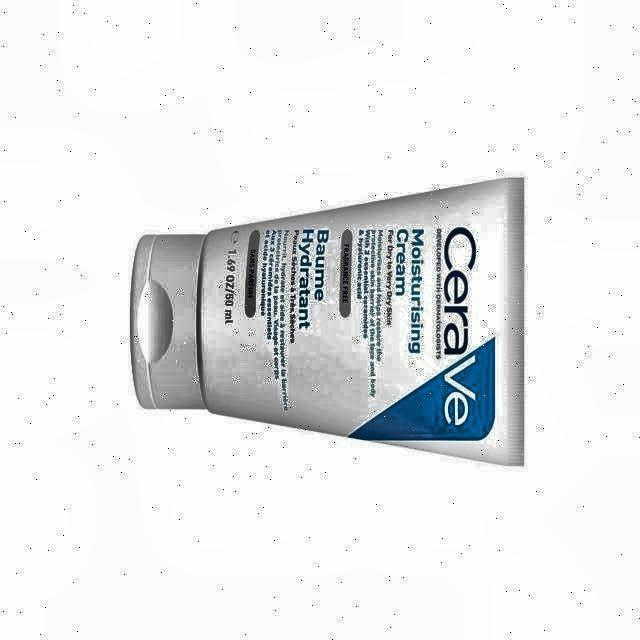plastic: (130, 178, 522, 465)
